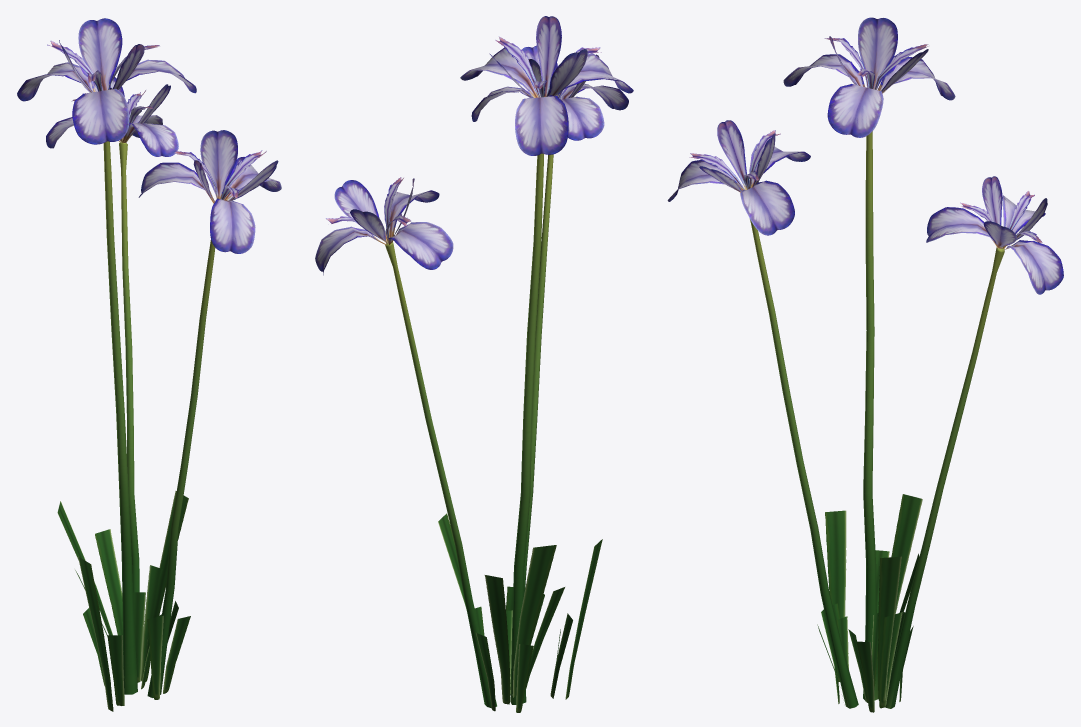
Rendered from Pikulka_damaged.fbx.
The picture shows the model from 3 angles, left to right: view 1: azimuth 30°, elevation 25°; view 2: azimuth 150°, elevation 25°; view 3: azimuth 270°, elevation 25°; orthographic projection. The views are drawn at different scales.
Parts seen in each view (by area): view 1: Pikulka_damaged_LOD00; view 2: Pikulka_damaged_LOD00; view 3: Pikulka_damaged_LOD00.
Boxes of the visible parts, x1,y1,x2,y2 form: Pikulka_damaged_LOD00: [17, 18, 281, 711]; Pikulka_damaged_LOD00: [315, 16, 633, 712]; Pikulka_damaged_LOD00: [667, 17, 1063, 712].
Size of what is drawn, in the model's own units: 0.4002 by 1.25 by 0.6891.
